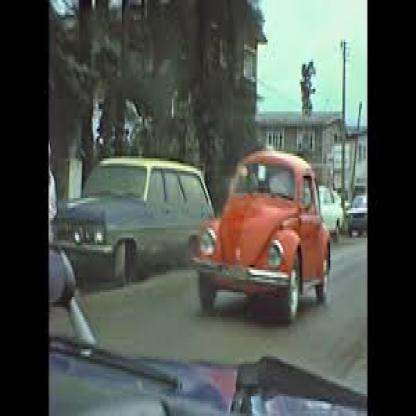car: (53, 99, 240, 289), (189, 131, 355, 340), (286, 151, 353, 241), (336, 174, 379, 234)
